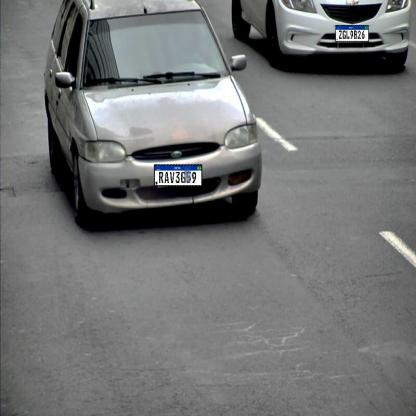PlacaM: (154, 164, 202, 186), (335, 25, 369, 42)
